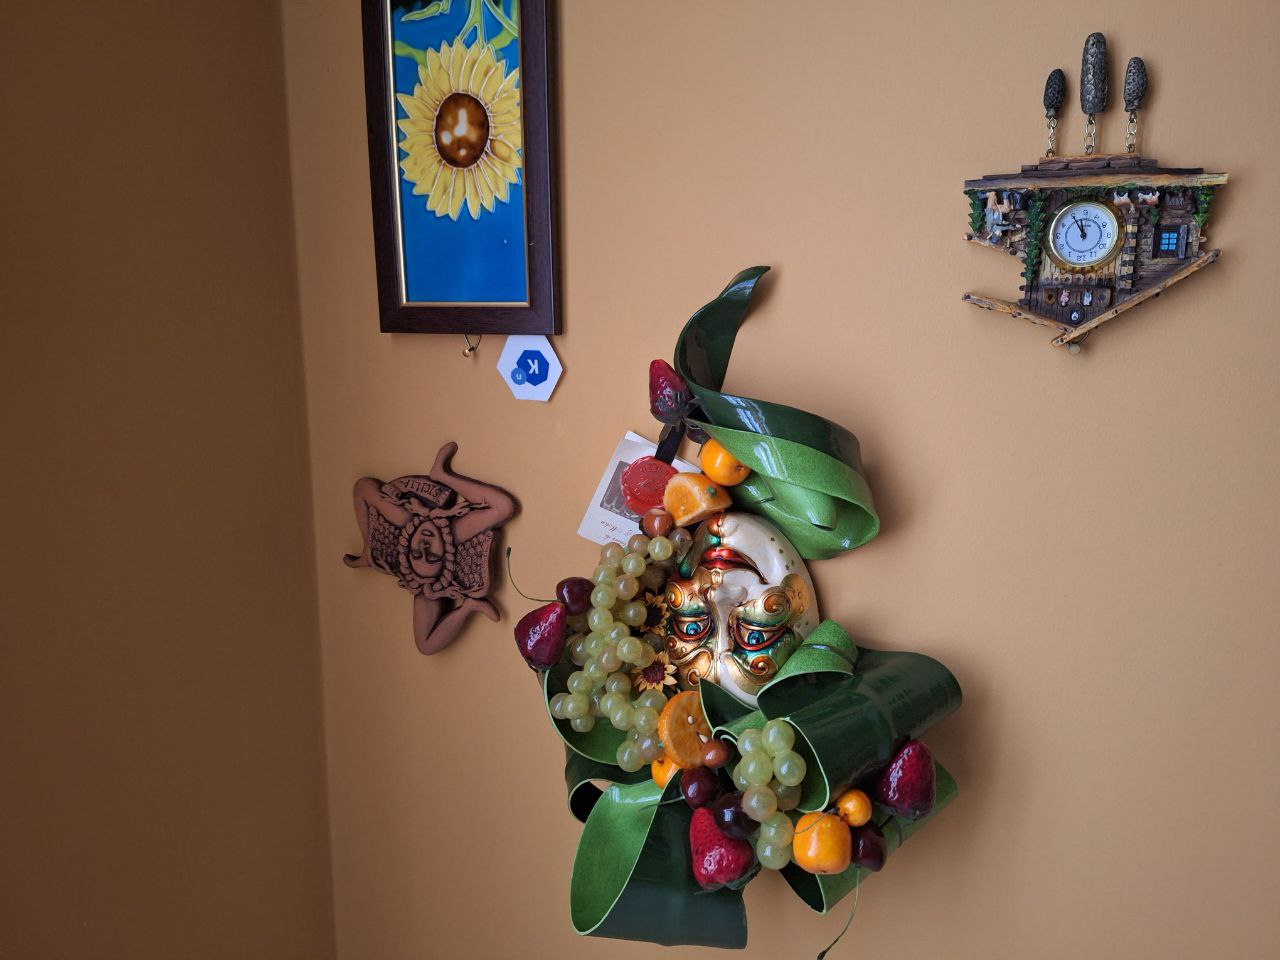knative: (510, 348, 549, 391)
